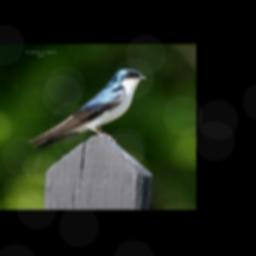Swallow: (28, 68, 147, 149)
